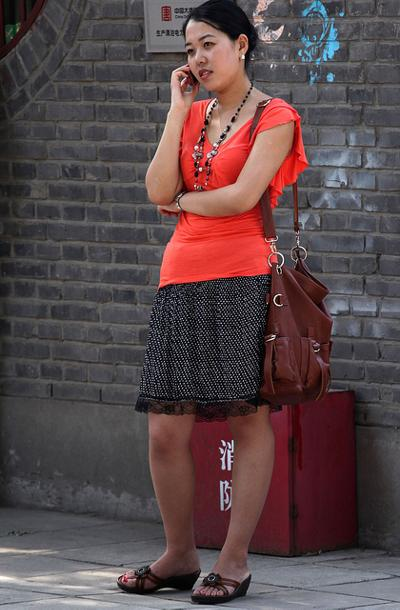person: (121, 3, 304, 602)
